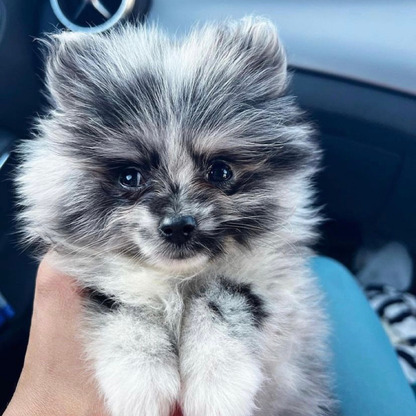Pomeranian: (29, 28, 326, 410)
